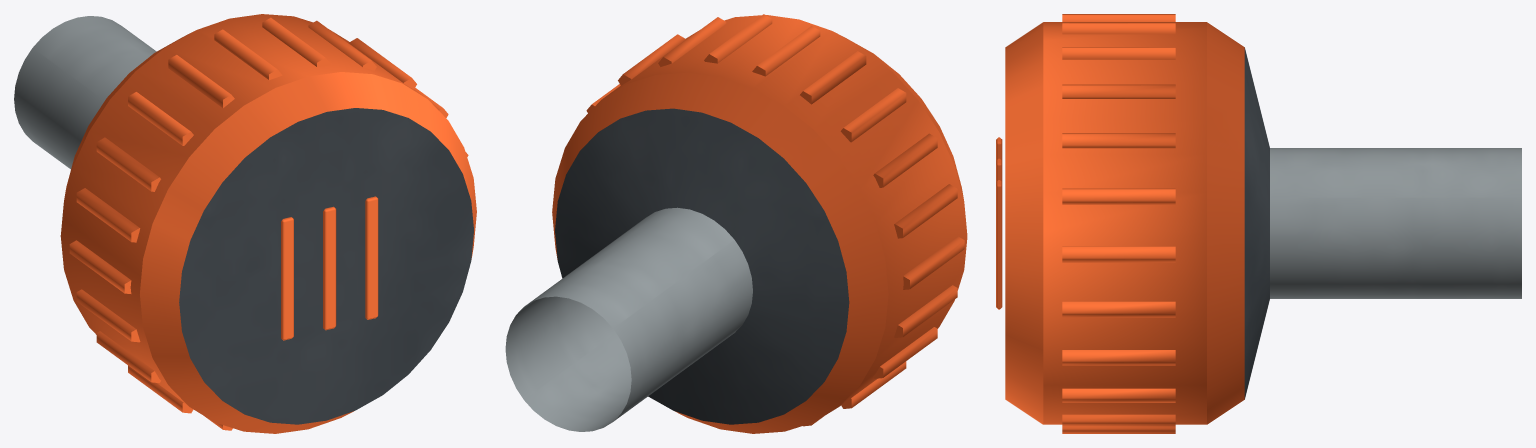
File: prop_accel_test.fbx
3 views of the same model, side by side, from view 1: azimuth 30°, elevation 25°; view 2: azimuth 150°, elevation 25°; view 3: azimuth 270°, elevation 25° (orthographic). The views are drawn at different scales.
Parts seen in each view (by area): view 1: SM_prop_accel_test; view 2: SM_prop_accel_test; view 3: SM_prop_accel_test.
Boxes of the visible parts, left/top/right/bottom form: SM_prop_accel_test: left=14, top=14, right=476, bottom=433; SM_prop_accel_test: left=505, top=14, right=967, bottom=433; SM_prop_accel_test: left=996, top=14, right=1521, bottom=433.
Bounding box in the file's own units: 0.0333 × 0.033 × 0.0417.
Materials: 3 (2 with a texture image).
